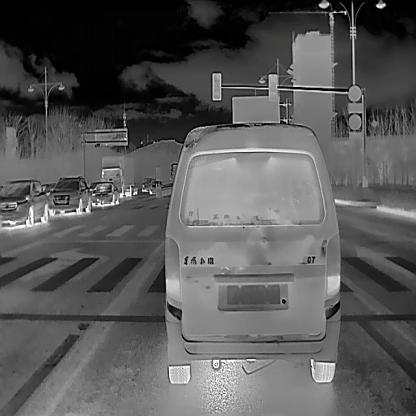car: (161, 117, 343, 383), (0, 173, 49, 224), (51, 173, 90, 215), (100, 154, 137, 195), (91, 180, 118, 205), (140, 176, 154, 191)
light: (267, 71, 280, 107), (210, 68, 223, 102)
sign: (344, 109, 365, 130), (345, 83, 364, 106)
